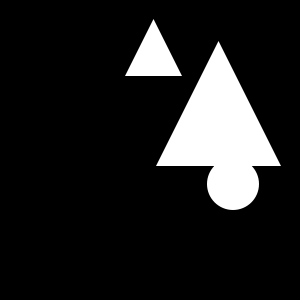circle: (214, 148, 243, 177)
rectangle: (207, 158, 259, 210)
triangle: (156, 41, 281, 166), (177, 75, 246, 144), (125, 19, 182, 76)
